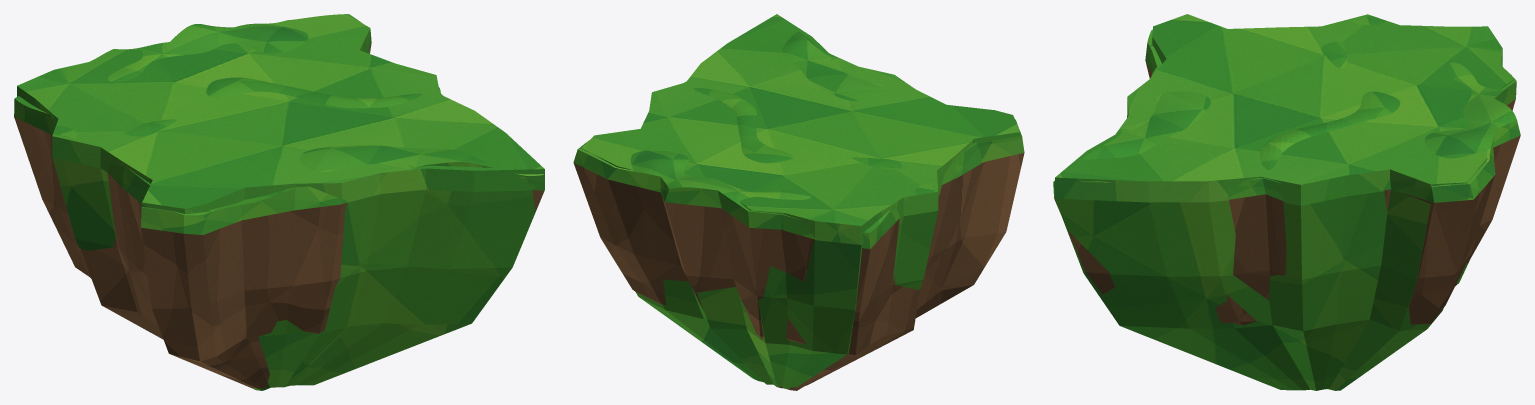
The model's file is Islands.fbx.
3 renders of one model, left to right at view 1: azimuth 30°, elevation 25°; view 2: azimuth 150°, elevation 25°; view 3: azimuth 270°, elevation 25°, orthographic. The views are drawn at different scales.
Visible parts, largest first — view 1: Island.original, Island_LOD0, Island.plains.top; view 2: Island.original, Island_LOD0, Island.plains.top; view 3: Island.original, Island.plains.top, Island_LOD0.
Boxes of the visible parts, bbox=[...] form: Island.original: bbox=[17, 15, 544, 390]; Island_LOD0: bbox=[14, 43, 544, 388]; Island.plains.top: bbox=[14, 14, 544, 234]; Island.original: bbox=[581, 14, 1020, 388]; Island_LOD0: bbox=[573, 153, 1024, 390]; Island.plains.top: bbox=[573, 31, 1024, 249]; Island.original: bbox=[1055, 14, 1513, 390]; Island.plains.top: bbox=[1053, 16, 1520, 202]; Island_LOD0: bbox=[1054, 61, 1520, 325].
Size of what is drawn, in the model's own units: 90259 by 69109 by 102945.
Materials: 2 (2 with a texture image).
